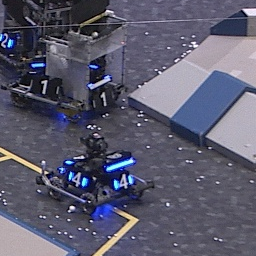Blue: (68, 170, 87, 189), (112, 173, 133, 190), (1, 30, 14, 51)
Dead: (29, 75, 62, 100), (90, 87, 116, 107)
Robot: (14, 1, 129, 118), (33, 134, 157, 213), (1, 1, 74, 70)
